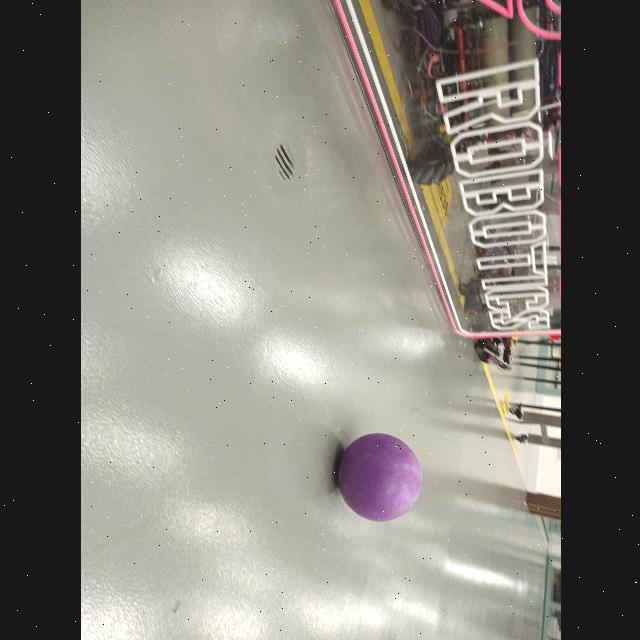P: (336, 433, 422, 521)
